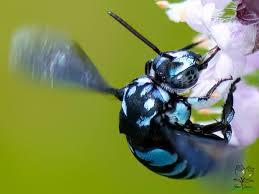Thyreus: (30, 12, 244, 183)
